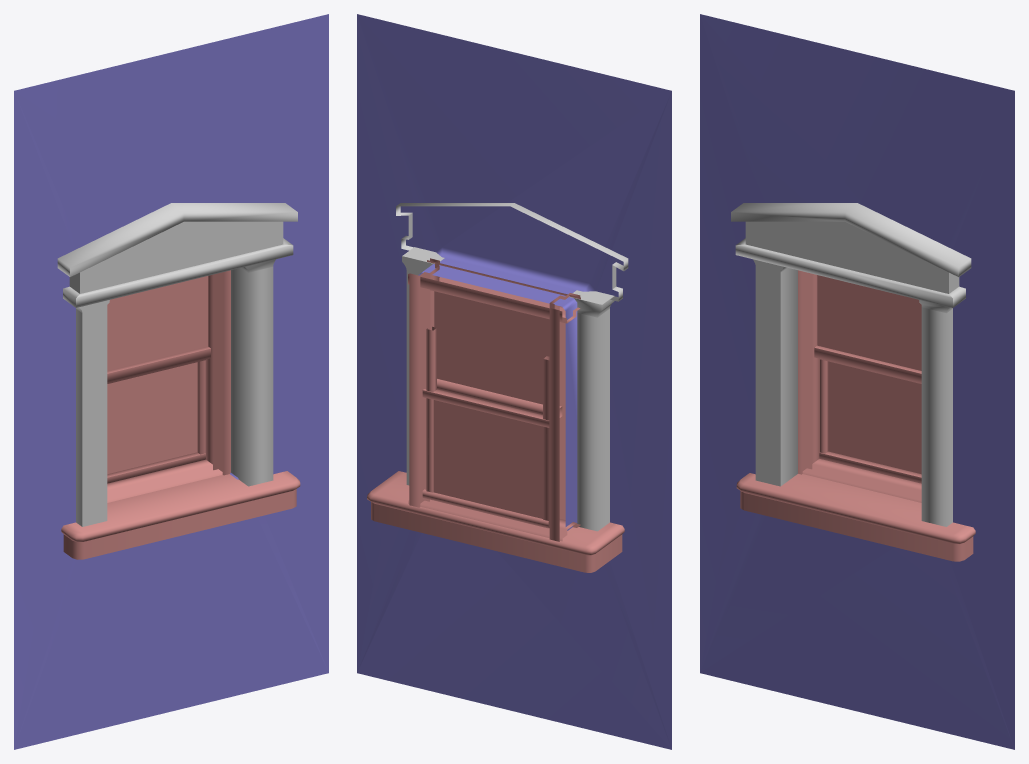
File: window_06_small.fbx
3 views of the same model, side by side, from view 1: azimuth 30°, elevation 25°; view 2: azimuth 150°, elevation 25°; view 3: azimuth 330°, elevation 25° (orthographic).
Visible parts, largest first — view 1: Plane.036, Plane.037, Cube.034; view 2: Plane.036, Plane.037, Cube.034; view 3: Plane.036, Plane.037, Cube.034.
Part boxes in pixels (bbox=[...]): Plane.036: bbox=[14, 14, 328, 749]; Plane.037: bbox=[61, 270, 300, 559]; Cube.034: bbox=[57, 203, 297, 526]; Plane.036: bbox=[357, 14, 671, 749]; Plane.037: bbox=[367, 258, 624, 572]; Cube.034: bbox=[396, 203, 628, 531]; Plane.036: bbox=[700, 14, 1014, 749]; Plane.037: bbox=[736, 270, 975, 561]; Cube.034: bbox=[731, 203, 971, 526].
Size of the model in its own units: 2 by 4 by 0.5096.
